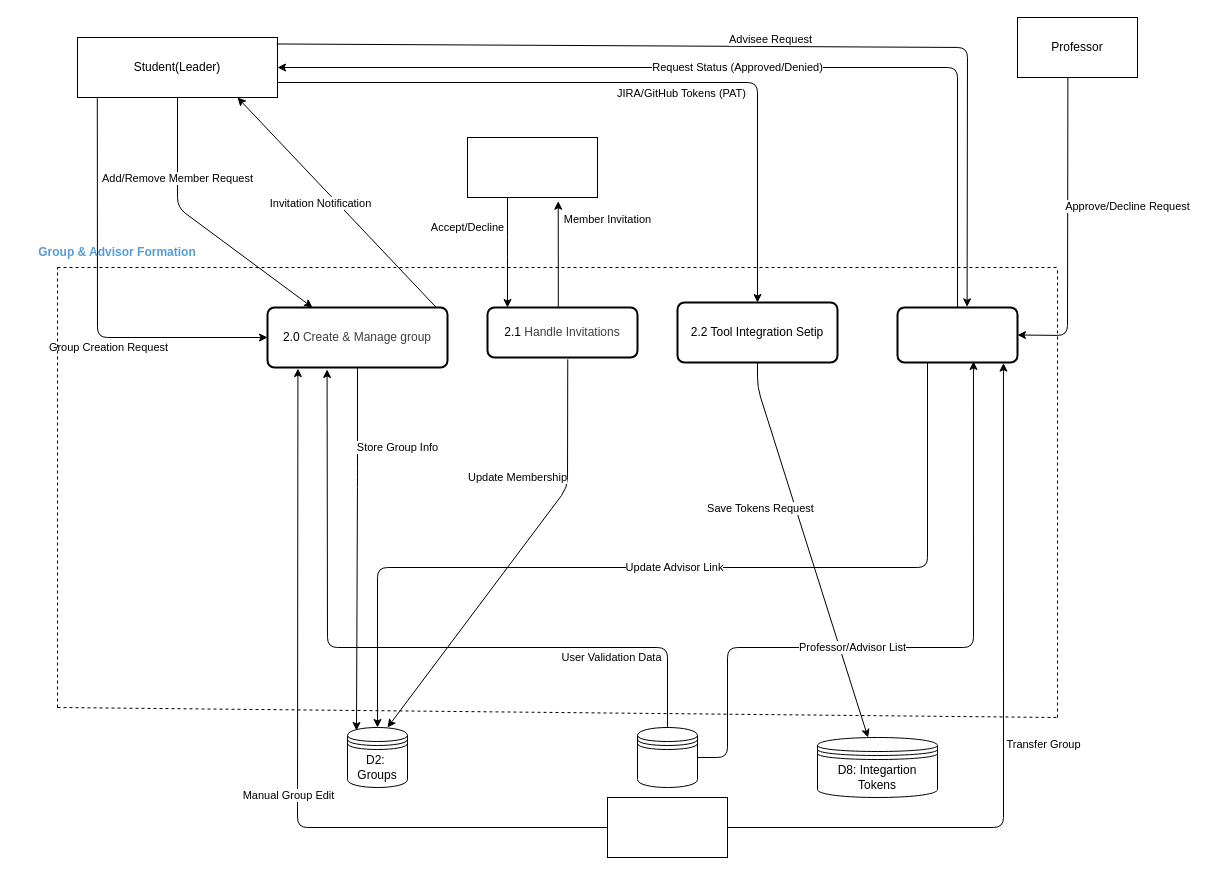
Some shapes in this 1207 by 875 pixel diagram are drawn without their labels. The shapes that lost their labels are listed below. From the top down, each one's centre as x and y in pixels, then its label:
At (x=532, y=167): "Student(Member)".
At (x=957, y=334): "2.3 Advisor Association".
At (x=667, y=757): "D1: Users".
At (x=667, y=827): "Coordinator".
